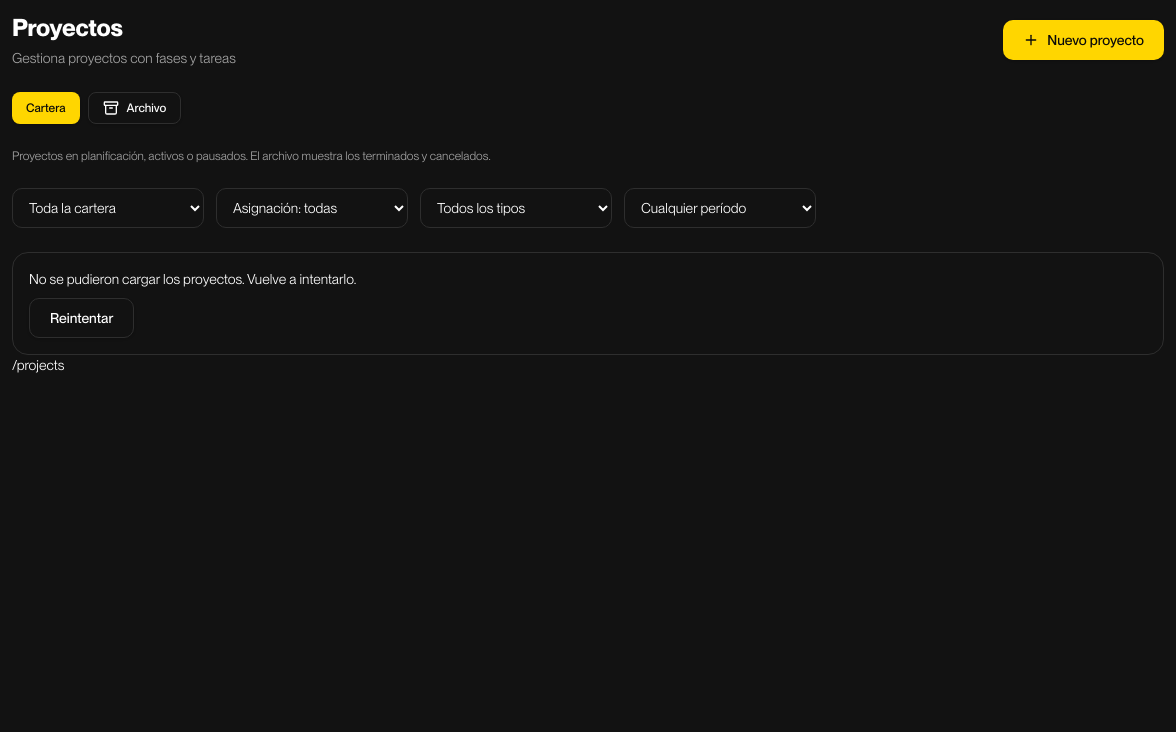
Test: projects filter navigation › offers retry on failure without claiming the project list is empty
Check: the message shows "No se pudieron cargar", box [29,271,356,287]
Check: the text "Sin proyectos todavía" is not shown
Click the button "Reintentar".
click(82, 318)  # box [29,298,134,338]
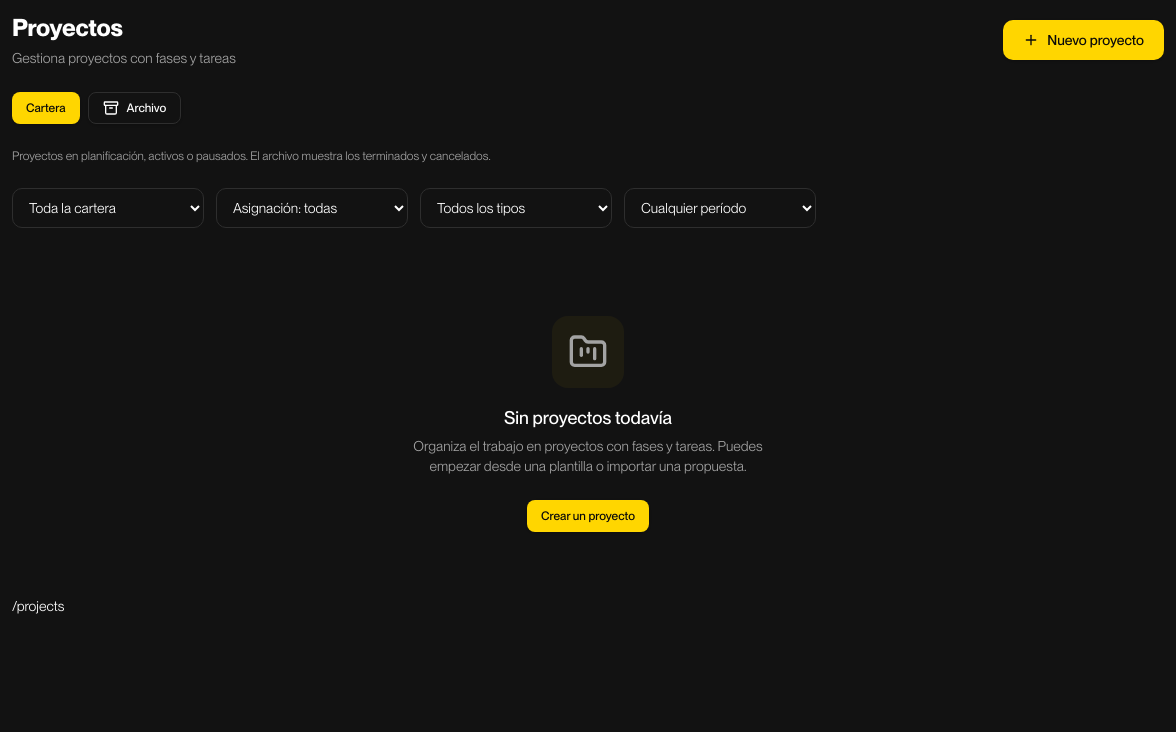
Check: the heading "Sin proyectos todavía" is shown, box [504,404,672,432]
